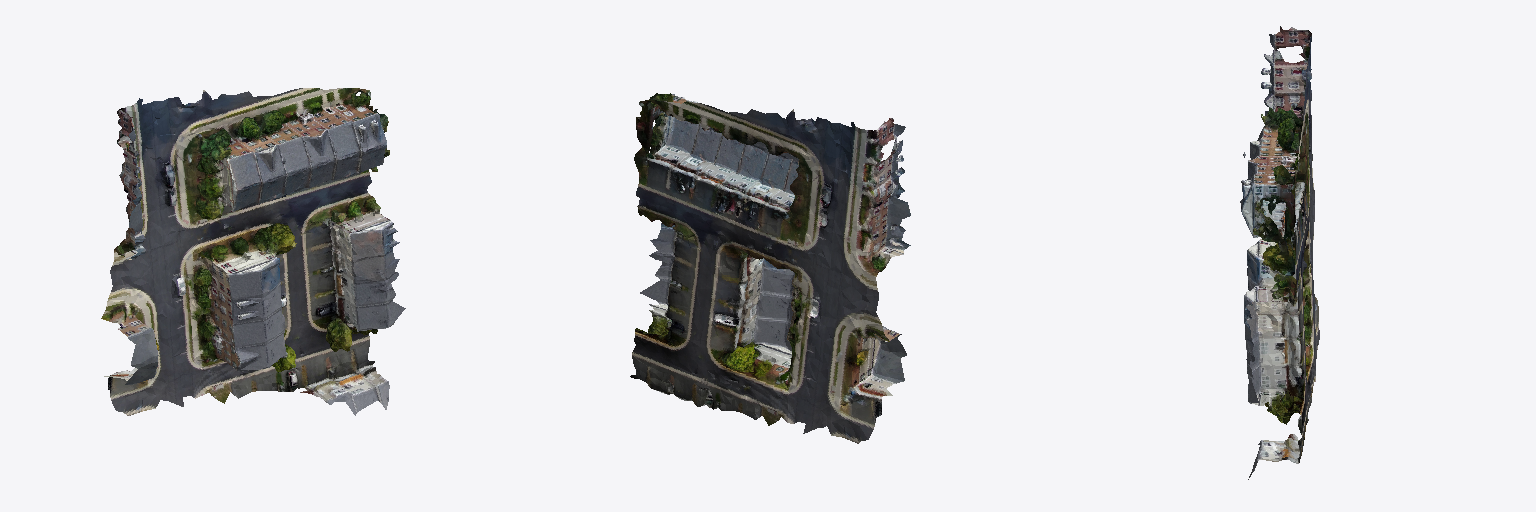
The picture shows the model from 3 angles: view 1: azimuth 30°, elevation 25°; view 2: azimuth 150°, elevation 25°; view 3: azimuth 270°, elevation 25°; orthographic projection.
Bounding box in the file's own units: 70.76 × 82.91 × 17.56.
Materials: 1 (1 with a texture image).